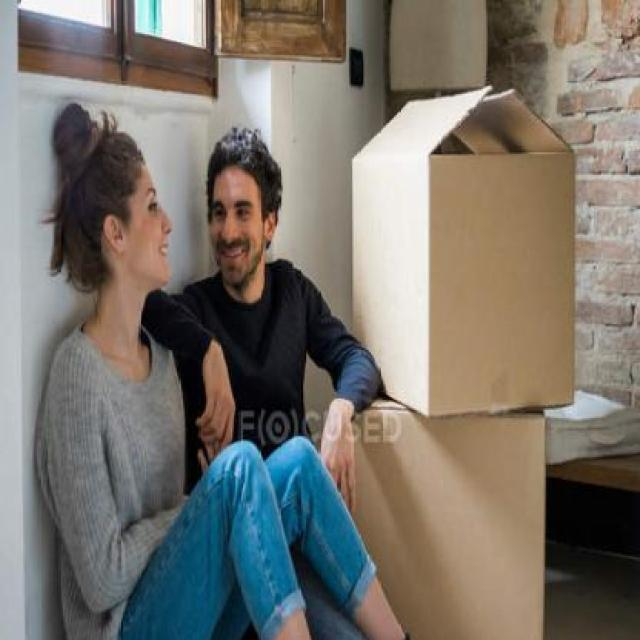box: (346, 76, 585, 420), (337, 381, 569, 640)
